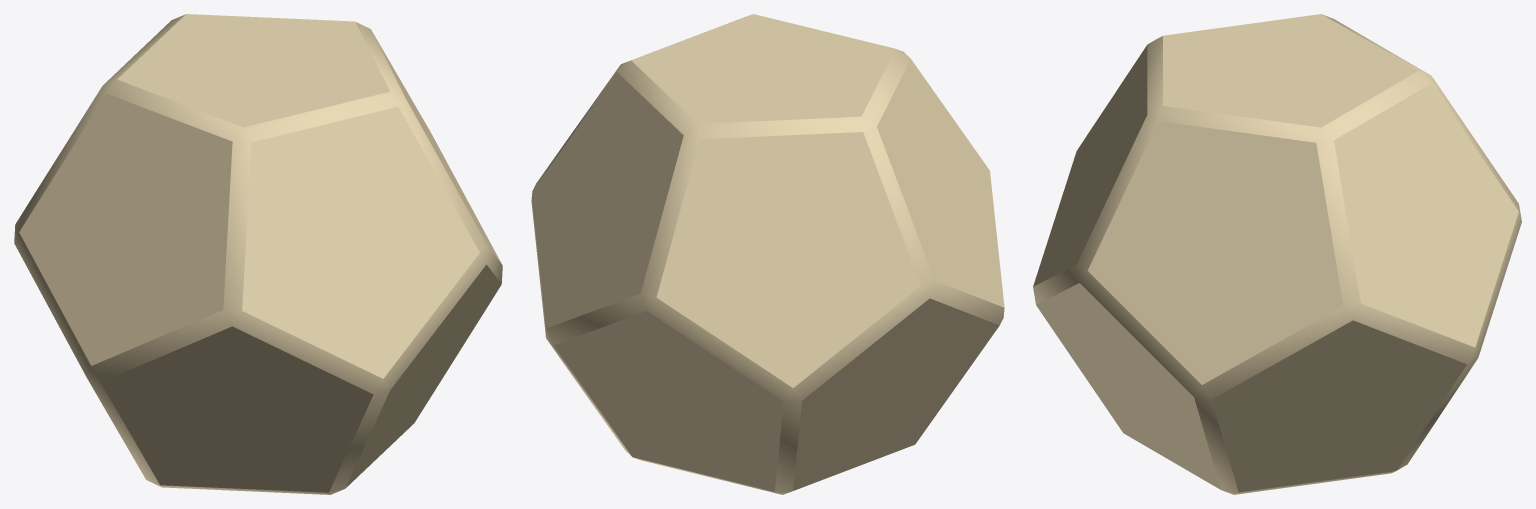
Rendered from midnight_d12_mobile.glb.
3 views of the same model, side by side, from view 1: azimuth 30°, elevation 25°; view 2: azimuth 150°, elevation 25°; view 3: azimuth 270°, elevation 25° (orthographic). The views are drawn at different scales.
Parts seen in each view (by area): view 1: MidnightD12; view 2: MidnightD12; view 3: MidnightD12.
Boxes of the visible parts, x1,y1,x2,y2 form: MidnightD12: (14,14,502,494); MidnightD12: (531,14,1004,494); MidnightD12: (1033,14,1521,494).
Bounding box in the file's own units: 0.0829 × 0.0723 × 0.0872.
